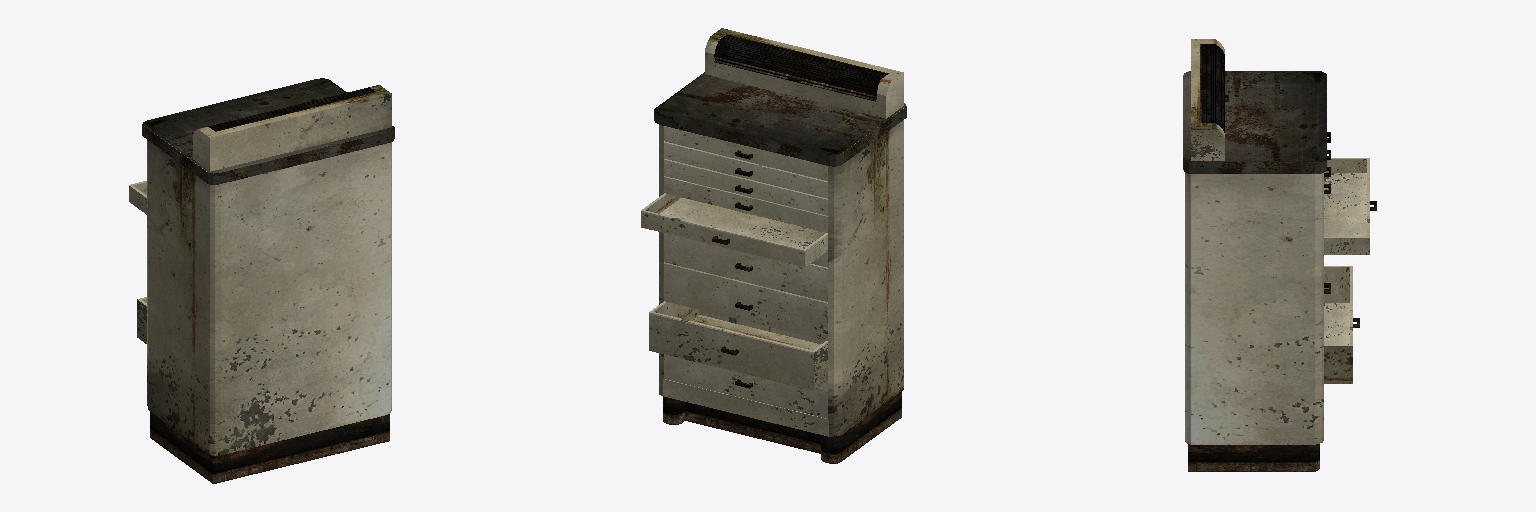
The picture shows the model from 3 angles: view 1: azimuth 30°, elevation 25°; view 2: azimuth 150°, elevation 25°; view 3: azimuth 270°, elevation 25°; orthographic projection.
Parts seen in each view (by area): view 1: bio_med_drawers_searched; view 2: bio_med_drawers_searched; view 3: bio_med_drawers_searched.
Part boxes in pixels (left/top/right/bottom): bio_med_drawers_searched: left=129, top=78, right=394, bottom=483; bio_med_drawers_searched: left=641, top=28, right=906, bottom=463; bio_med_drawers_searched: left=1183, top=39, right=1376, bottom=471.
Size of the model in its own units: 49.31 by 87.44 by 44.41.
Materials: 1 (1 with a texture image).